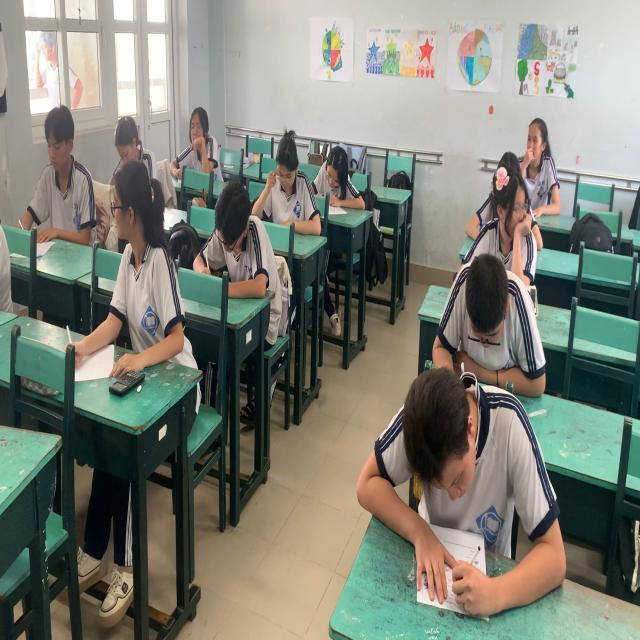cheating: (96, 165, 196, 365), (477, 164, 540, 250)
not_cheating: (391, 376, 560, 532), (447, 256, 556, 354), (32, 100, 94, 246), (205, 170, 269, 294), (262, 127, 309, 242), (514, 108, 556, 205), (111, 111, 160, 188), (320, 137, 361, 225), (180, 99, 219, 158)
